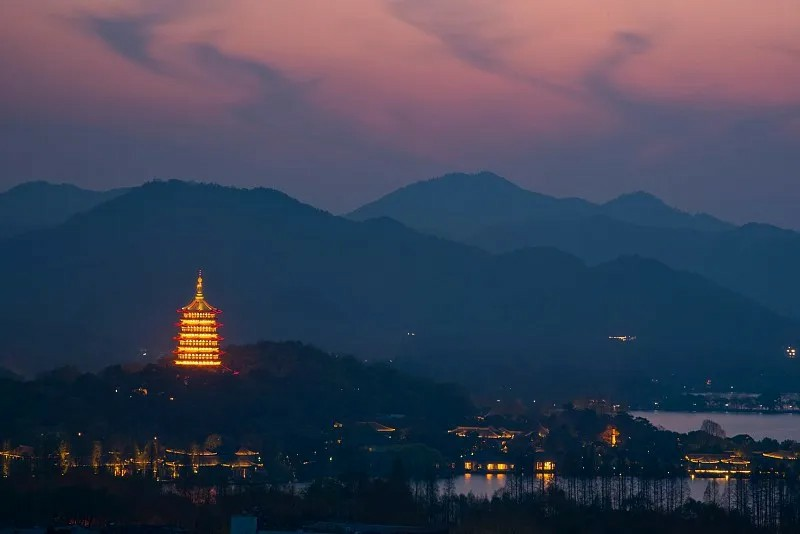Leifeng: (170, 268, 229, 374)
